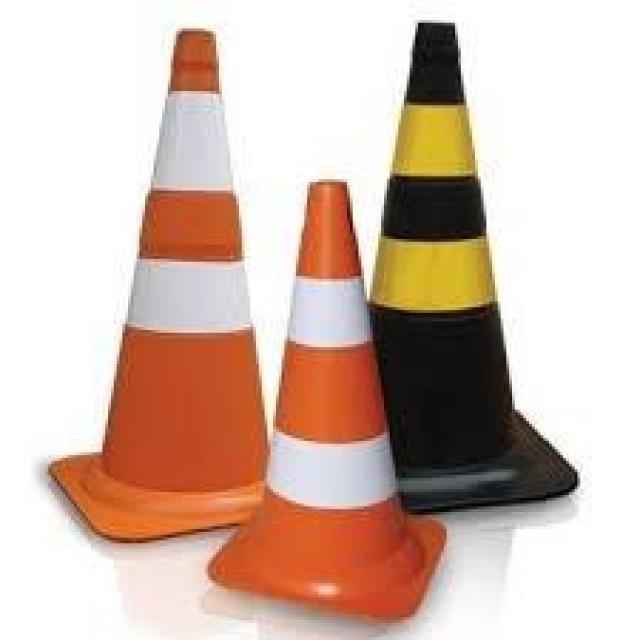cone: (214, 158, 438, 630), (358, 15, 562, 507), (73, 24, 260, 544)
